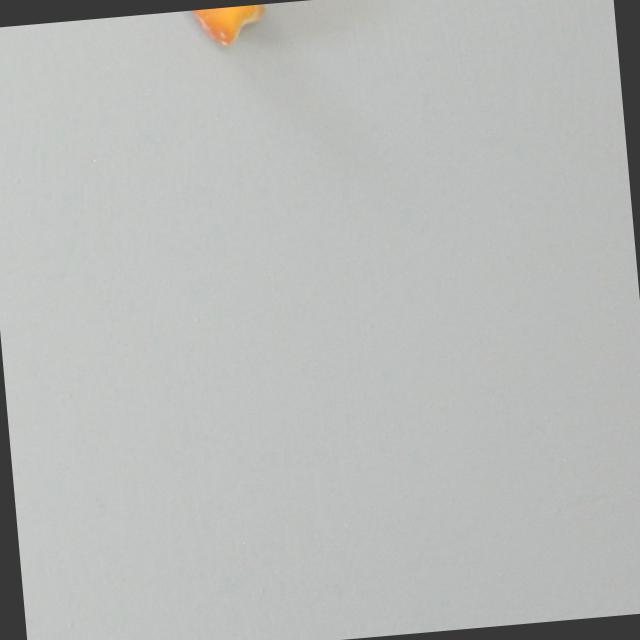dañado: (170, 3, 273, 55)
